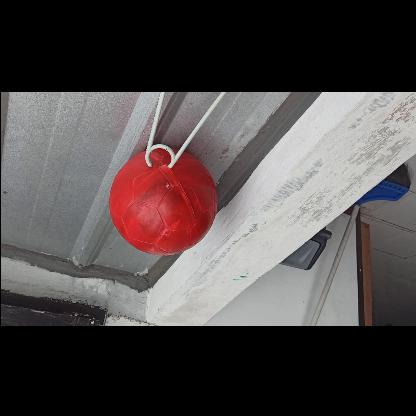red_ball: (108, 149, 214, 255)
